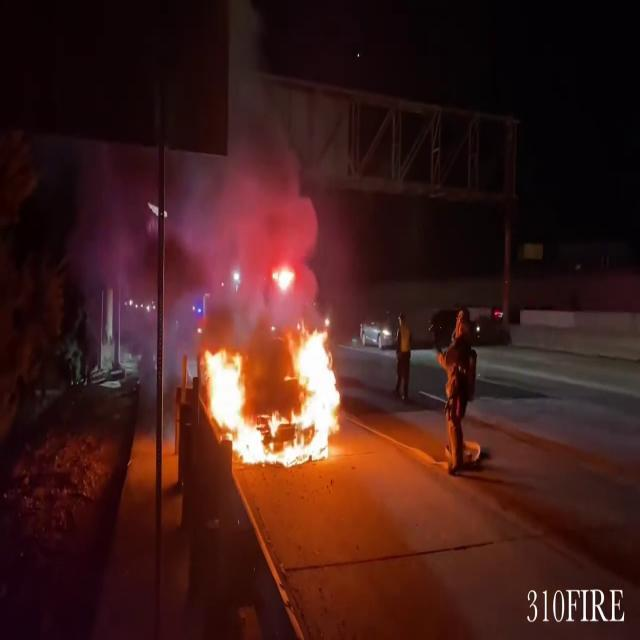Fire: (198, 306, 342, 472)
Smoke: (71, 20, 337, 362)
